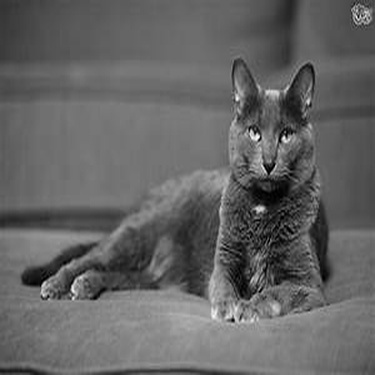cat: (17, 52, 333, 326)
